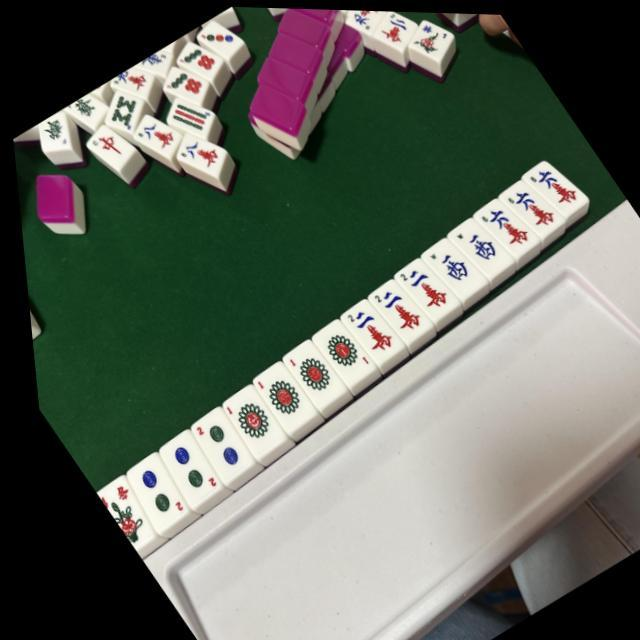bs4: (86, 477, 150, 548)
hww: (446, 215, 500, 270), (421, 237, 475, 290)
sc2: (391, 255, 452, 318), (364, 276, 424, 338), (337, 296, 396, 358)
sc6: (472, 192, 534, 255), (523, 153, 584, 215), (498, 172, 558, 235)
sd1: (243, 359, 307, 426), (213, 385, 276, 449), (274, 338, 335, 401), (306, 318, 366, 380)
sd2: (150, 432, 216, 501), (118, 456, 182, 524), (183, 408, 246, 476)
